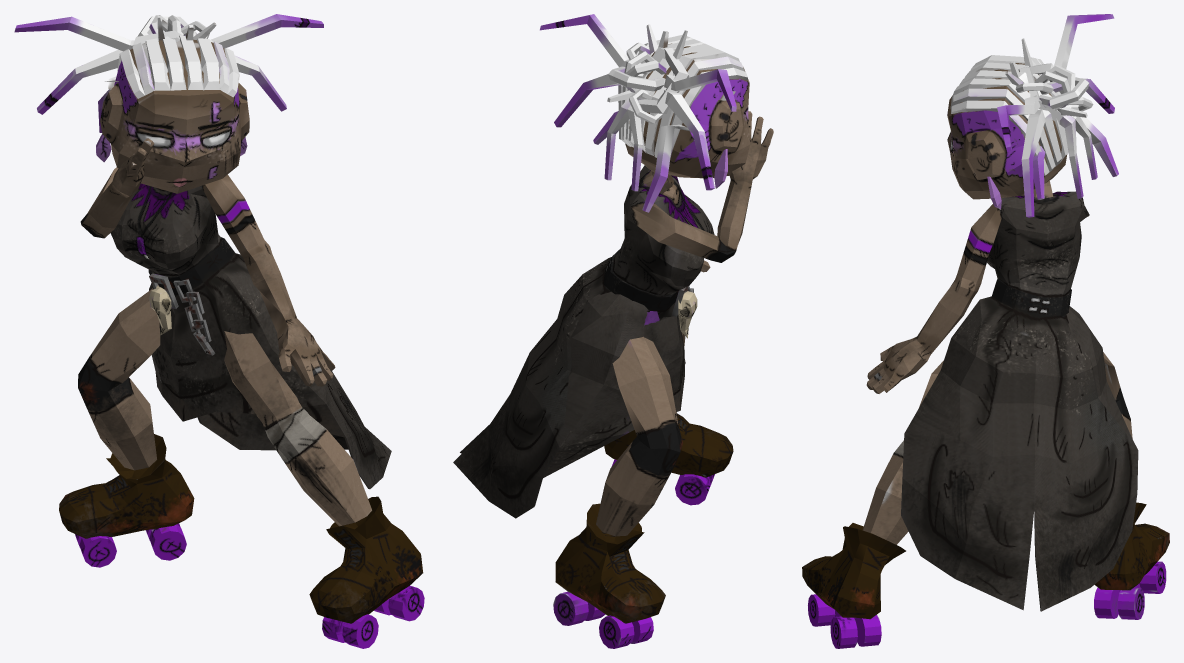
File: bruja_000077.obj
The picture shows the model from 3 angles, left to right: view 1: azimuth 30°, elevation 25°; view 2: azimuth 150°, elevation 25°; view 3: azimuth 270°, elevation 25°; orthographic projection. The views are drawn at different scales.
Parts seen in each view (by area): view 1: Bruja_Plane.001; view 2: Bruja_Plane.001; view 3: Bruja_Plane.001.
Part boxes in pixels (<box>): Bruja_Plane.001: <box>14,14,424,648</box>; Bruja_Plane.001: <box>453,14,773,648</box>; Bruja_Plane.001: <box>802,14,1169,648</box>.
Size of the model in its own units: 9.09 by 15.42 by 9.26.
